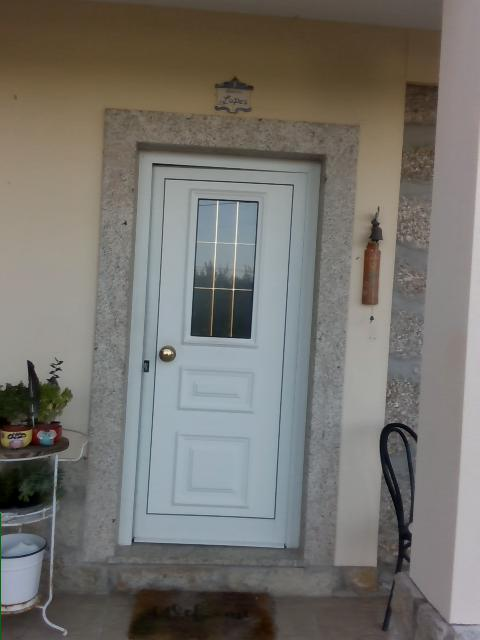closed_door: (116, 146, 324, 547)
